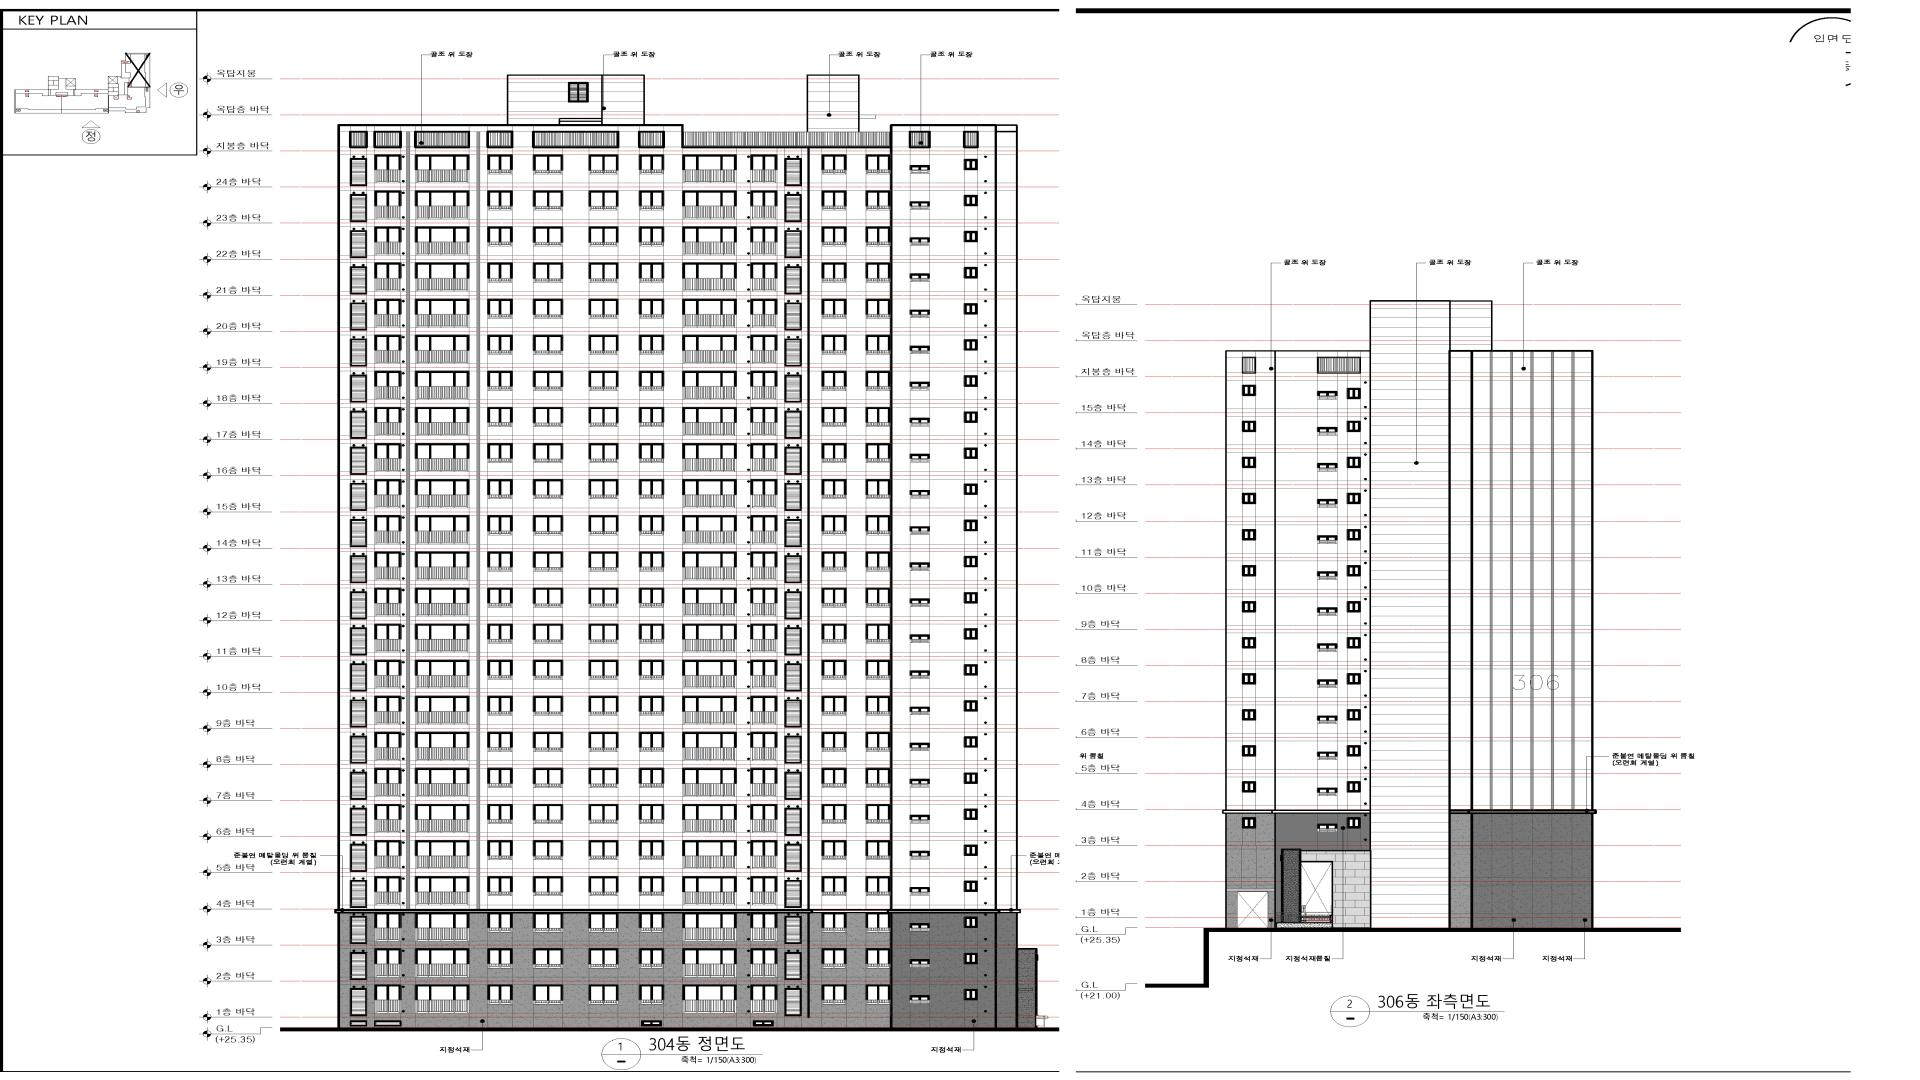door: (1300, 861, 1333, 918), (1237, 891, 1269, 928)
wall: (338, 74, 1038, 1031), (1226, 301, 1593, 932)
window: (682, 587, 737, 617), (414, 695, 469, 725), (414, 587, 469, 617), (414, 514, 469, 545), (414, 406, 469, 436), (414, 225, 469, 256), (415, 334, 469, 364), (415, 298, 469, 328), (682, 948, 737, 977), (682, 913, 737, 942), (682, 876, 737, 905), (682, 840, 737, 869), (682, 804, 737, 833), (682, 767, 737, 796), (682, 732, 737, 761), (682, 695, 737, 724), (682, 659, 737, 688), (682, 624, 737, 653), (682, 551, 737, 580), (682, 514, 737, 543), (682, 479, 737, 508), (682, 443, 737, 472), (682, 406, 737, 435), (682, 371, 737, 400), (682, 335, 737, 364), (682, 298, 737, 327), (682, 262, 737, 291), (682, 227, 737, 256), (682, 190, 737, 219), (682, 154, 737, 183), (414, 984, 469, 1013), (682, 984, 737, 1013), (414, 948, 469, 977), (414, 876, 469, 905), (414, 840, 469, 869), (414, 804, 469, 833), (415, 732, 471, 761), (414, 659, 469, 688), (414, 624, 469, 653), (414, 551, 469, 580), (414, 479, 469, 508), (414, 443, 469, 472), (415, 262, 471, 291), (414, 190, 469, 219), (415, 913, 469, 942), (415, 767, 469, 796), (415, 371, 469, 400), (415, 154, 469, 183), (531, 131, 620, 148), (414, 131, 471, 149), (750, 948, 778, 977), (750, 154, 778, 183), (750, 190, 778, 219), (750, 227, 778, 256), (750, 262, 778, 291), (750, 298, 778, 327), (375, 984, 402, 1013), (750, 984, 778, 1013), (375, 948, 402, 977), (375, 876, 402, 905), (375, 840, 402, 869), (375, 804, 402, 833), (375, 767, 402, 796), (375, 732, 402, 761), (375, 695, 402, 724), (375, 659, 402, 688), (375, 624, 402, 653), (375, 587, 402, 616), (375, 551, 402, 580), (375, 479, 402, 508), (375, 443, 402, 472), (375, 406, 402, 435), (375, 371, 402, 400), (375, 335, 402, 364), (375, 298, 402, 327), (375, 262, 402, 291), (375, 227, 402, 256), (375, 190, 402, 219), (375, 154, 402, 183), (750, 335, 778, 364), (750, 371, 778, 400), (750, 407, 778, 436), (750, 443, 778, 472), (750, 479, 778, 508), (750, 516, 778, 545), (750, 551, 778, 580), (750, 588, 778, 617), (750, 624, 778, 653), (750, 659, 778, 688), (750, 696, 778, 725), (750, 732, 778, 761), (750, 767, 778, 796), (750, 804, 778, 833), (750, 840, 778, 869), (750, 876, 778, 905), (750, 913, 778, 942), (375, 514, 401, 545), (375, 914, 402, 942), (1317, 357, 1361, 373), (533, 984, 563, 1005), (588, 984, 618, 1005), (533, 225, 563, 247), (533, 876, 563, 897), (533, 695, 563, 716), (533, 587, 563, 608), (533, 514, 563, 535), (533, 406, 563, 427), (533, 298, 563, 319), (588, 190, 618, 211), (588, 298, 618, 319), (588, 695, 618, 716), (533, 948, 563, 968), (533, 154, 563, 174), (588, 767, 618, 787), (588, 804, 618, 824), (588, 840, 618, 860), (588, 876, 618, 895), (588, 913, 618, 932), (588, 948, 618, 968), (533, 262, 563, 282), (533, 190, 563, 210), (533, 913, 563, 932), (533, 840, 563, 860), (533, 804, 563, 824), (533, 767, 563, 787), (533, 732, 563, 752), (533, 659, 563, 679), (533, 624, 563, 644), (533, 551, 563, 571), (533, 479, 563, 498), (533, 443, 563, 463), (533, 371, 563, 390), (533, 335, 563, 355), (588, 154, 618, 174), (588, 227, 618, 247), (588, 262, 618, 282), (588, 335, 618, 355), (588, 371, 618, 390), (588, 407, 618, 427), (588, 443, 618, 463), (588, 479, 618, 498), (588, 516, 618, 535), (588, 551, 618, 571), (588, 588, 618, 608), (588, 624, 618, 644), (588, 659, 618, 679), (588, 732, 618, 752), (865, 767, 893, 789), (865, 876, 893, 897), (865, 984, 893, 1005), (487, 695, 513, 716), (487, 298, 513, 319), (487, 225, 513, 247), (638, 876, 665, 897), (638, 298, 665, 319), (638, 190, 665, 211), (487, 984, 513, 1005), (638, 984, 665, 1005), (865, 262, 893, 282), (865, 299, 893, 319), (865, 335, 893, 355), (865, 371, 893, 390), (865, 407, 893, 427), (865, 443, 893, 463), (865, 479, 893, 498), (865, 516, 893, 535), (865, 551, 893, 571), (865, 588, 893, 608), (865, 624, 893, 644), (865, 659, 893, 679), (865, 696, 893, 716), (865, 732, 893, 752), (865, 804, 893, 824), (865, 840, 893, 860), (865, 913, 893, 932), (865, 948, 893, 968), (865, 154, 893, 174), (865, 190, 893, 210), (865, 227, 893, 247), (349, 988, 368, 1017), (349, 880, 368, 909), (349, 807, 368, 836), (349, 771, 368, 800), (349, 663, 368, 692), (349, 591, 368, 620), (349, 483, 368, 512), (349, 194, 368, 223), (373, 131, 402, 149), (487, 876, 513, 895), (487, 840, 513, 860), (487, 804, 513, 824), (487, 767, 513, 787), (487, 732, 513, 752), (487, 659, 513, 679), (487, 624, 513, 644), (487, 588, 513, 608), (487, 551, 513, 571), (487, 516, 513, 535), (487, 479, 513, 498), (487, 443, 513, 463), (487, 407, 513, 427), (487, 371, 513, 390), (487, 335, 513, 355), (487, 262, 513, 282), (487, 190, 513, 210), (487, 154, 513, 174), (638, 948, 665, 968), (638, 913, 665, 932), (638, 840, 665, 860), (638, 804, 665, 824), (638, 767, 665, 787), (638, 732, 665, 752), (638, 696, 665, 716), (638, 659, 665, 679), (638, 624, 665, 644), (638, 588, 665, 608), (638, 551, 665, 571), (638, 516, 665, 535), (638, 479, 665, 498), (638, 443, 665, 463), (638, 407, 665, 427), (638, 371, 665, 390), (638, 335, 665, 355), (638, 262, 665, 282), (638, 227, 665, 247), (638, 154, 665, 174), (487, 948, 513, 968), (487, 913, 513, 932), (349, 952, 368, 980), (349, 916, 368, 944), (349, 844, 368, 872), (349, 700, 368, 728), (349, 628, 368, 655), (349, 555, 368, 583), (349, 520, 368, 547), (349, 447, 368, 475), (349, 375, 368, 402), (349, 339, 368, 367), (349, 303, 368, 331), (349, 231, 368, 258), (349, 158, 368, 186), (785, 988, 802, 1017), (785, 915, 802, 944), (785, 880, 802, 909), (785, 771, 802, 800), (785, 591, 802, 620), (785, 518, 802, 547), (785, 410, 802, 439), (785, 302, 802, 331), (349, 410, 367, 439), (822, 190, 847, 210), (822, 154, 847, 174), (822, 227, 847, 247), (822, 262, 847, 282), (822, 299, 847, 319), (822, 335, 847, 355), (822, 371, 847, 390), (822, 407, 847, 427), (822, 443, 847, 463), (822, 479, 847, 498), (822, 516, 847, 535), (822, 551, 847, 571), (822, 588, 847, 608), (822, 624, 847, 644), (822, 659, 847, 679), (822, 696, 847, 716), (822, 732, 847, 752), (822, 767, 847, 787), (822, 804, 847, 824), (822, 840, 847, 860), (822, 876, 847, 895), (822, 913, 847, 932), (822, 948, 847, 968), (822, 985, 847, 1005), (638, 131, 665, 149), (785, 952, 802, 980), (785, 844, 802, 872), (785, 808, 802, 836), (785, 736, 802, 764), (785, 700, 802, 728), (785, 663, 802, 691), (785, 628, 802, 655), (785, 555, 802, 583), (785, 483, 802, 510), (785, 447, 802, 475), (785, 375, 802, 402), (785, 339, 802, 367), (785, 266, 802, 294), (785, 231, 802, 258), (785, 194, 802, 222), (785, 158, 802, 186), (349, 736, 367, 764), (349, 266, 367, 294), (487, 131, 513, 148), (568, 82, 589, 103), (909, 131, 931, 149), (349, 131, 368, 149), (963, 131, 978, 149), (1242, 357, 1255, 373), (1316, 498, 1337, 508), (910, 273, 930, 282), (910, 345, 930, 355), (910, 381, 930, 390), (910, 454, 930, 463), (910, 526, 930, 535), (910, 562, 930, 571), (910, 634, 930, 644), (910, 670, 930, 679), (910, 742, 930, 752), (910, 851, 930, 860), (375, 1021, 402, 1027), (910, 165, 930, 174), (910, 923, 930, 932), (910, 959, 930, 968), (1317, 463, 1337, 472), (1317, 571, 1337, 580), (1317, 679, 1337, 688), (1317, 787, 1337, 796), (964, 736, 978, 748), (964, 773, 978, 785), (964, 808, 978, 820), (964, 916, 978, 928), (964, 989, 978, 1001), (964, 158, 978, 170), (964, 231, 978, 243), (964, 303, 978, 315), (964, 339, 978, 351), (964, 411, 978, 423), (964, 447, 978, 459), (964, 520, 978, 531), (964, 592, 978, 604), (964, 628, 978, 640), (964, 700, 978, 712), (1242, 781, 1257, 793), (1242, 745, 1257, 757), (1346, 781, 1361, 793), (1346, 745, 1361, 757), (1346, 637, 1361, 649), (1346, 601, 1361, 613), (1346, 529, 1361, 541), (1346, 456, 1361, 468), (1346, 421, 1361, 433), (1346, 388, 1361, 400), (1317, 752, 1338, 760), (1317, 824, 1338, 832), (910, 887, 930, 895), (910, 202, 930, 210), (910, 237, 930, 245), (910, 310, 930, 318), (910, 418, 930, 426), (910, 491, 930, 498), (910, 599, 930, 607), (910, 707, 930, 715), (910, 779, 930, 787), (910, 815, 930, 823), (910, 996, 930, 1004), (964, 555, 977, 567), (1242, 673, 1255, 684), (1242, 637, 1255, 649), (1242, 564, 1255, 576), (1242, 529, 1255, 541), (1242, 456, 1255, 468), (1242, 421, 1255, 433), (1317, 392, 1337, 400), (1317, 427, 1337, 435), (1317, 535, 1337, 543), (1317, 608, 1337, 616), (1317, 644, 1337, 651), (1317, 716, 1337, 724), (964, 845, 978, 856), (964, 881, 978, 891), (964, 953, 978, 964), (964, 195, 978, 206), (964, 268, 978, 278), (964, 376, 978, 386), (964, 484, 978, 495), (964, 665, 978, 675), (1346, 818, 1361, 828), (1346, 709, 1361, 720), (1346, 674, 1361, 684), (1346, 566, 1361, 576), (1346, 493, 1361, 504), (641, 1021, 662, 1027), (753, 1021, 774, 1027), (1242, 818, 1255, 828), (1242, 709, 1255, 720), (1242, 601, 1255, 612), (1242, 493, 1255, 504), (1242, 385, 1255, 396), (349, 1021, 367, 1027)
